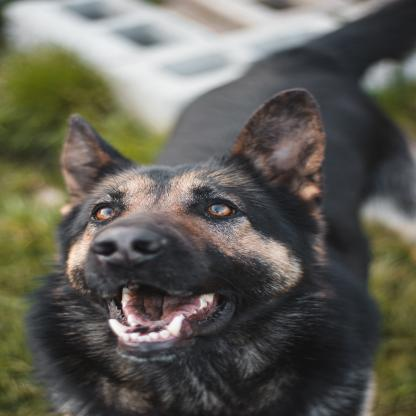german shepherd: (33, 6, 416, 415)
